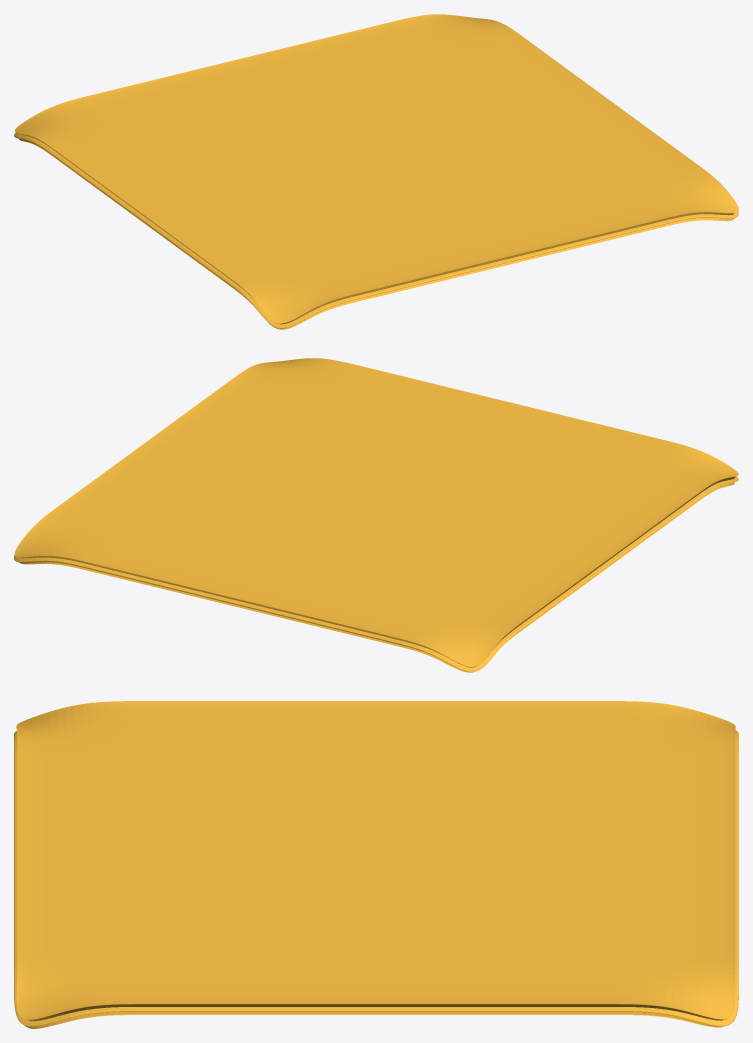
The model's file is cheeseSliced.fbx.
The picture shows the model from 3 angles, top to bottom: view 1: azimuth 30°, elevation 25°; view 2: azimuth 150°, elevation 25°; view 3: azimuth 270°, elevation 25°; orthographic projection. The views are drawn at different scales.
Parts seen in each view (by area): view 1: Cheese; view 2: Cheese; view 3: Cheese.
Part boxes in pixels (x1,y1,x2,y2): Cheese: (14,14,738,329); Cheese: (14,358,738,672); Cheese: (14,701,738,1028).
Size of the model in its own units: 177 by 7.65 by 177.
